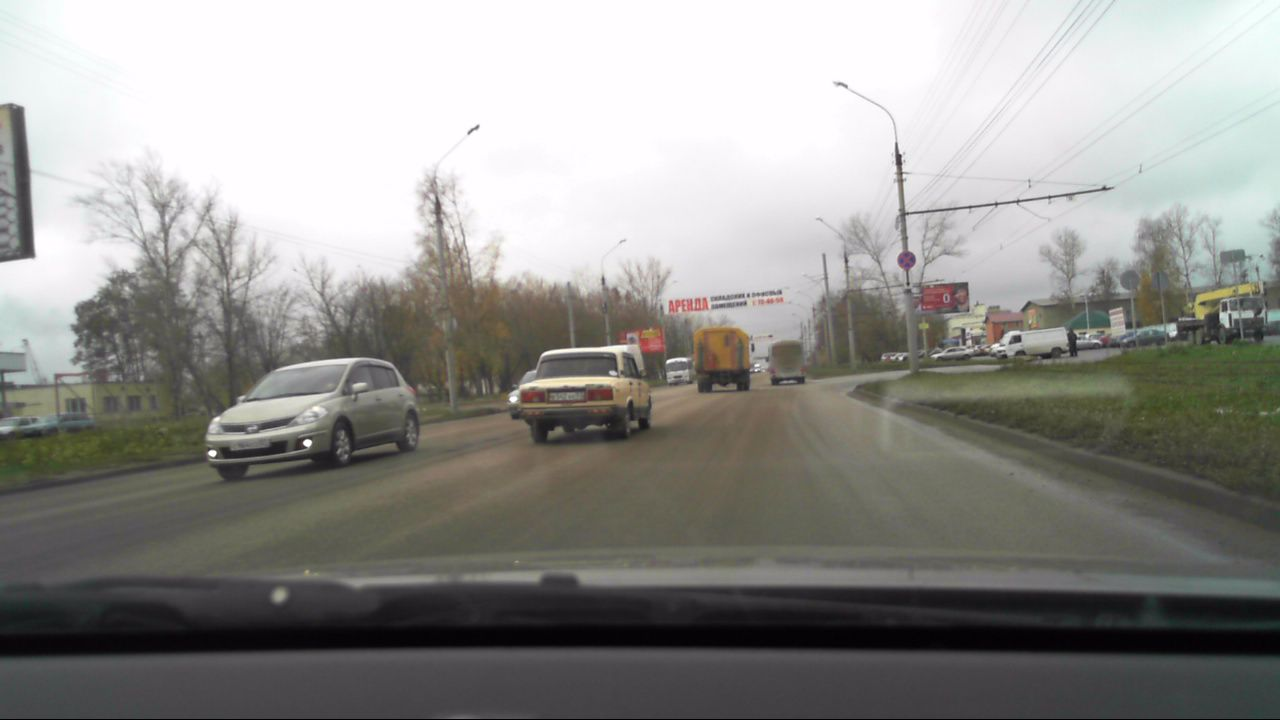No Parking: (895, 246, 917, 270)
